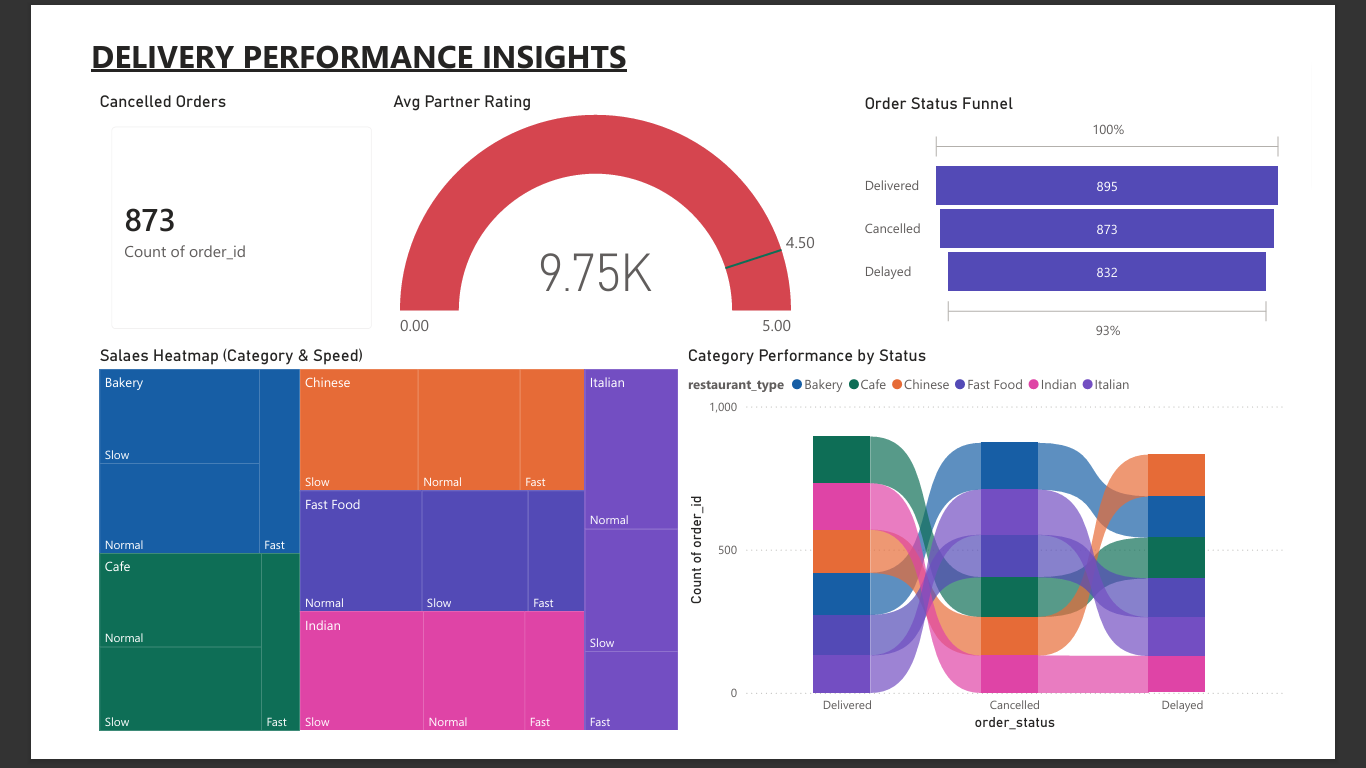

The dashboard page shown, as its layout file describes it:
{"tool":"powerbi","page":{"name":"Delivery Performance","canvas":[1280,720],"ordinal":2},"visuals":[{"type":"gauge","title":"Avg Partner Rating","fields":{"Y":["Sum(food_delivery_processed.delivery_partner_rating)"]},"box":[340,64.3,451.4,258.6],"z":0},{"type":"funnel","title":"Order Status Funnel","fields":{"Category":["food_delivery_processed.order_status"],"Y":["CountNonNull(food_delivery_processed.order_id)"]},"box":[820,65.7,435.7,257.1],"z":1000},{"type":"treemap","title":"Salaes Heatmap (Category & Speed)","fields":{"Group":["food_delivery_processed.restaurant_type"],"Details":["food_delivery_processed.delivery_speed"],"Values":["Sum(food_delivery_processed.order_value)"]},"box":[41.4,322.9,598.6,397.1],"z":2000},{"type":"ribbonChart","title":"Category Performance by Status","fields":{"Series":["food_delivery_processed.restaurant_type"],"Category":["food_delivery_processed.order_status"],"Y":["CountNonNull(food_delivery_processed.order_id)"]},"box":[640,322.9,615.7,397.1],"z":3000},{"type":"cardVisual","title":"Cancelled Orders","fields":{"Data":["CountNonNull(food_delivery_processed.order_id)"]},"box":[41.4,64.3,298.6,258.6],"z":4000},{"type":"textbox","box":[0,0,620,64.3],"z":5000}]}

Visuals, with their boxes in screenshot pixels (x1, y1, x2, y2), scaled from the page's 1280x720 canvas onto the 1366x768 screenshot:
"Avg Partner Rating" gauge: locate(363, 69, 845, 344)
"Order Status Funnel" funnel: locate(875, 70, 1340, 344)
"Salaes Heatmap (Category & Speed)" treemap: locate(44, 344, 683, 767)
"Category Performance by Status" ribbonChart: locate(683, 344, 1340, 767)
"Cancelled Orders" cardVisual: locate(44, 69, 363, 344)
textbox: locate(0, 0, 662, 69)
